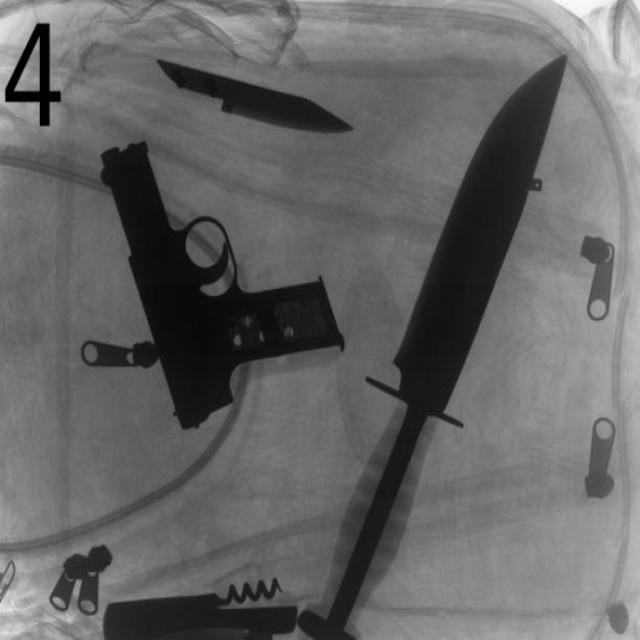GUN: (99, 141, 341, 429), (3, 10, 57, 131)
KNIFE: (157, 48, 352, 145)
